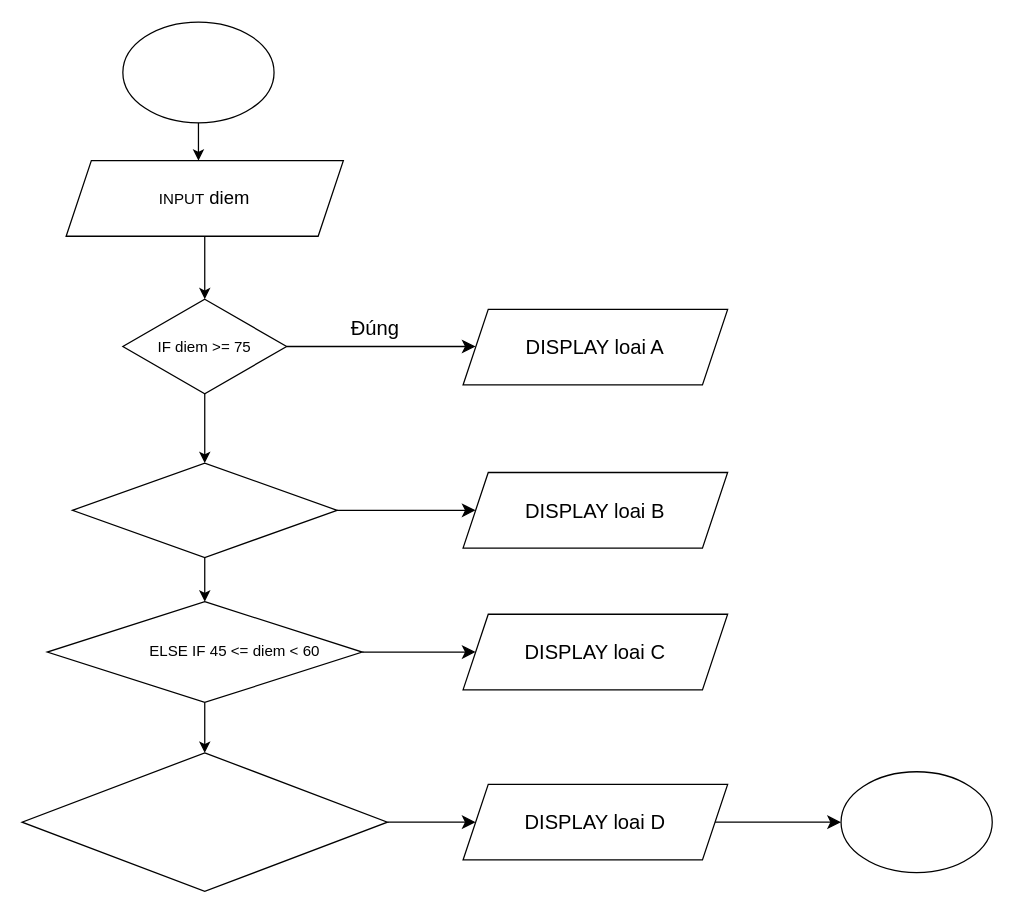
This 1014x914 diagram has some shape labels left out. The shapes that lost their labels are listed below. From the top down, each one's centre as x and y in pixels, then its label:
point (198, 72): BEGIN
point (204, 510): ELSE IF 60 <= diem < 75
point (204, 821): ELSE IF 35 <= diem < 45
point (916, 821): END
